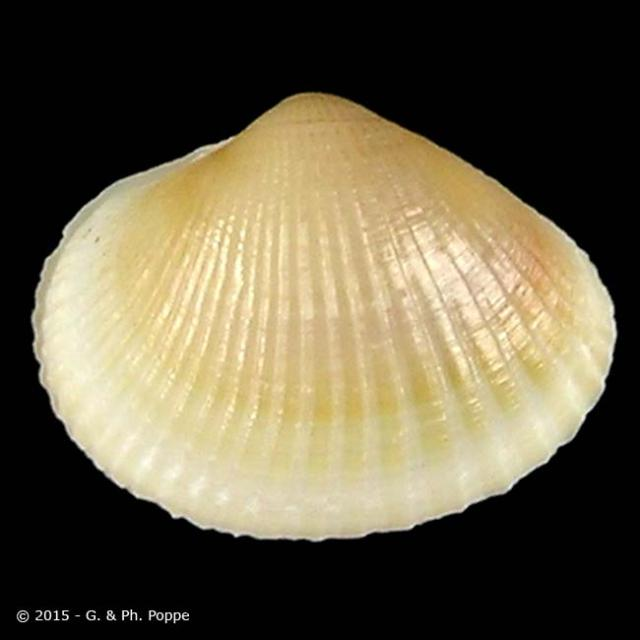Monodacna_colorata: (35, 93, 618, 549)
